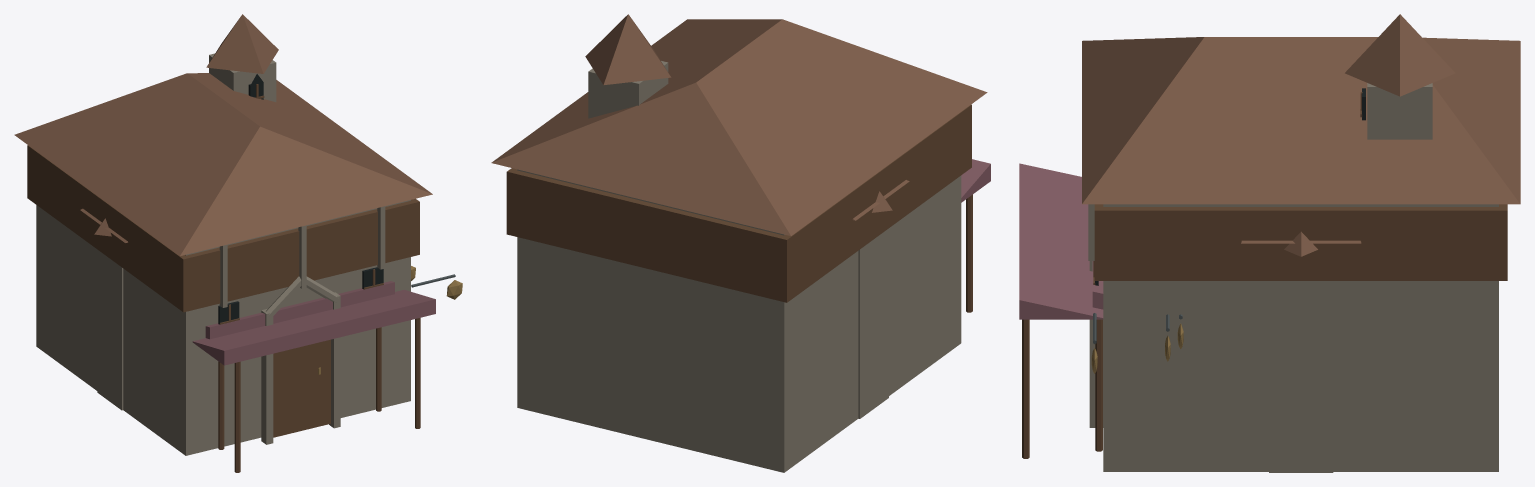
Rendered from market.glb.
The picture shows the model from 3 angles, left to right: view 1: azimuth 30°, elevation 25°; view 2: azimuth 150°, elevation 25°; view 3: azimuth 270°, elevation 25°; orthographic projection. The views are drawn at different scales.
Visible parts, largest first — view 1: VIL_MARKET_CHAPEL, VIL_MARKET_GATE, VIL_MARKET_WORKSHOP; view 2: VIL_MARKET_CHAPEL, VIL_MARKET_GATE; view 3: VIL_MARKET_CHAPEL, VIL_MARKET_GATE, VIL_MARKET_WORKSHOP.
Boxes of the visible parts, x1,y1,x2,y2 form: VIL_MARKET_CHAPEL: (14, 14, 462, 472); VIL_MARKET_GATE: (80, 208, 127, 410); VIL_MARKET_WORKSHOP: (205, 266, 415, 449); VIL_MARKET_CHAPEL: (491, 14, 990, 472); VIL_MARKET_GATE: (852, 180, 909, 418); VIL_MARKET_CHAPEL: (1019, 14, 1520, 471); VIL_MARKET_GATE: (1241, 231, 1361, 472); VIL_MARKET_WORKSHOP: (1092, 261, 1170, 451).
Bounding box in the file's own units: 5.16 × 5.47 × 5.83.
